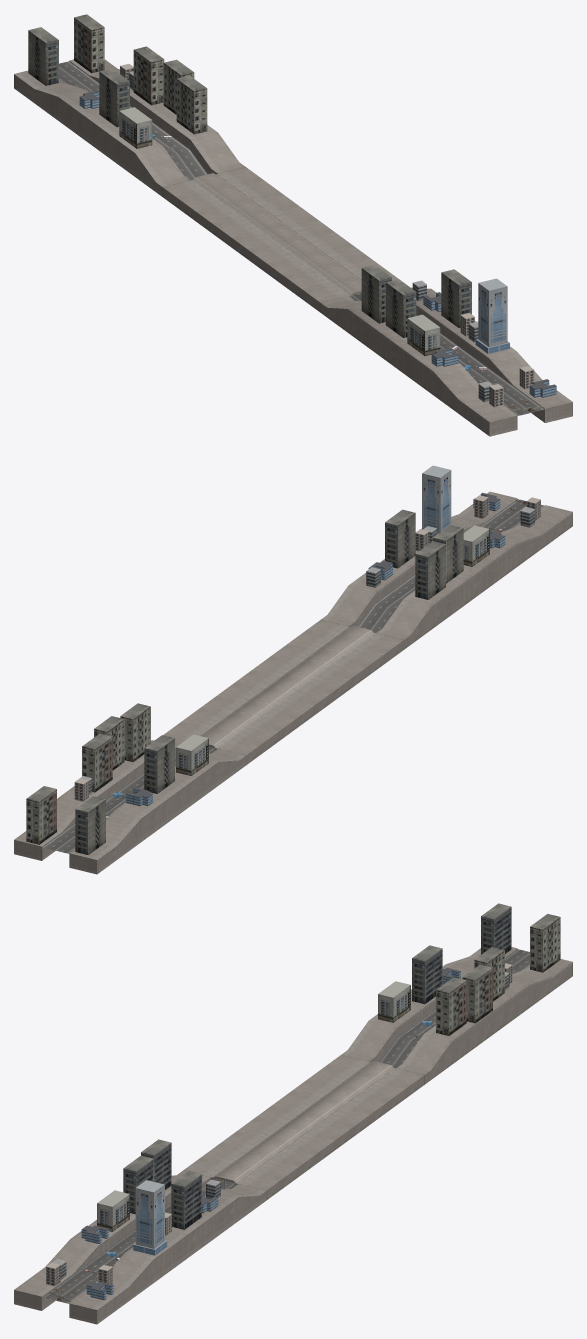
File: stage1Last.dae
The picture shows the model from 3 angles, top to bottom: view 1: azimuth 30°, elevation 25°; view 2: azimuth 150°, elevation 25°; view 3: azimuth 330°, elevation 25°; orthographic projection.
Parts seen in each view (by area): view 1: tunnel, road, building5, building15, building17, building23, building24, building11, building10, building021, building13, building18 (+2 smaller); view 2: tunnel, road, building5, building24, building23, building13, building021, building10, building17, building15, building18, building11 (+2 smaller); view 3: tunnel, road, building5, building15, building24, building10, building021, building16, building23, building18, building9, building11 (+2 smaller).
Part boxes in pixels (left/top/right/bottom): tunnel: left=14, top=59, right=572, bottom=436; road: left=59, top=61, right=544, bottom=415; building5: left=475, top=278, right=509, bottom=353; building15: left=176, top=75, right=207, bottom=134; building17: left=133, top=46, right=164, bottom=105; building23: left=28, top=27, right=58, bottom=85; building24: left=74, top=14, right=104, bottom=73; building11: left=385, top=279, right=416, bottom=337; building10: left=441, top=269, right=471, bottom=327; building021: left=99, top=68, right=129, bottom=127; building13: left=361, top=264, right=391, bottom=323; building18: left=119, top=107, right=152, bottom=148; tunnel: left=14, top=491, right=572, bottom=874; road: left=42, top=499, right=543, bottom=853; building5: left=421, top=465, right=451, bottom=534; building24: left=26, top=786, right=56, bottom=844; building23: left=75, top=796, right=105, bottom=855; building13: left=415, top=541, right=445, bottom=599; building021: left=144, top=735, right=174, bottom=793; building10: left=385, top=509, right=415, bottom=568; building17: left=82, top=733, right=112, bottom=792; building15: left=120, top=703, right=150, bottom=761; building18: left=176, top=734, right=208, bottom=775; building11: left=433, top=525, right=463, bottom=583; tunnel: left=14, top=947, right=572, bottom=1324; road: left=42, top=949, right=529, bottom=1303; building5: left=133, top=1180, right=167, bottom=1255; building15: left=436, top=977, right=466, bottom=1035; building24: left=530, top=914, right=560, bottom=972; building10: left=171, top=1171, right=201, bottom=1229; building021: left=412, top=945, right=442, bottom=1004; building16: left=462, top=964, right=492, bottom=1023; building23: left=481, top=903, right=511, bottom=954; building18: left=378, top=981, right=410, bottom=1022; building9: left=97, top=1190, right=129, bottom=1231; building11: left=123, top=1155, right=153, bottom=1214.
Size of the model in its own units: 1.25 by 1.26 by 12.4.
17 materials, 17 textured.
